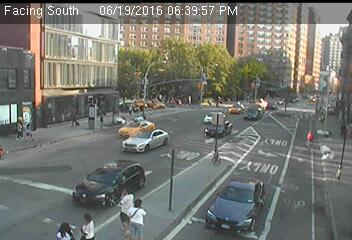neg: (253, 94, 280, 129), (181, 62, 203, 92), (151, 91, 173, 121), (221, 45, 243, 74), (164, 149, 185, 177), (196, 151, 216, 178), (293, 73, 313, 100), (296, 125, 315, 151), (262, 41, 281, 66), (294, 24, 312, 48), (151, 56, 168, 78), (126, 160, 142, 181), (209, 122, 223, 141), (110, 47, 124, 66), (137, 93, 144, 103)
pos: (124, 196, 155, 238), (78, 211, 99, 239), (3, 115, 23, 142), (66, 107, 83, 129), (21, 122, 37, 143), (336, 121, 350, 140), (125, 104, 135, 117)
